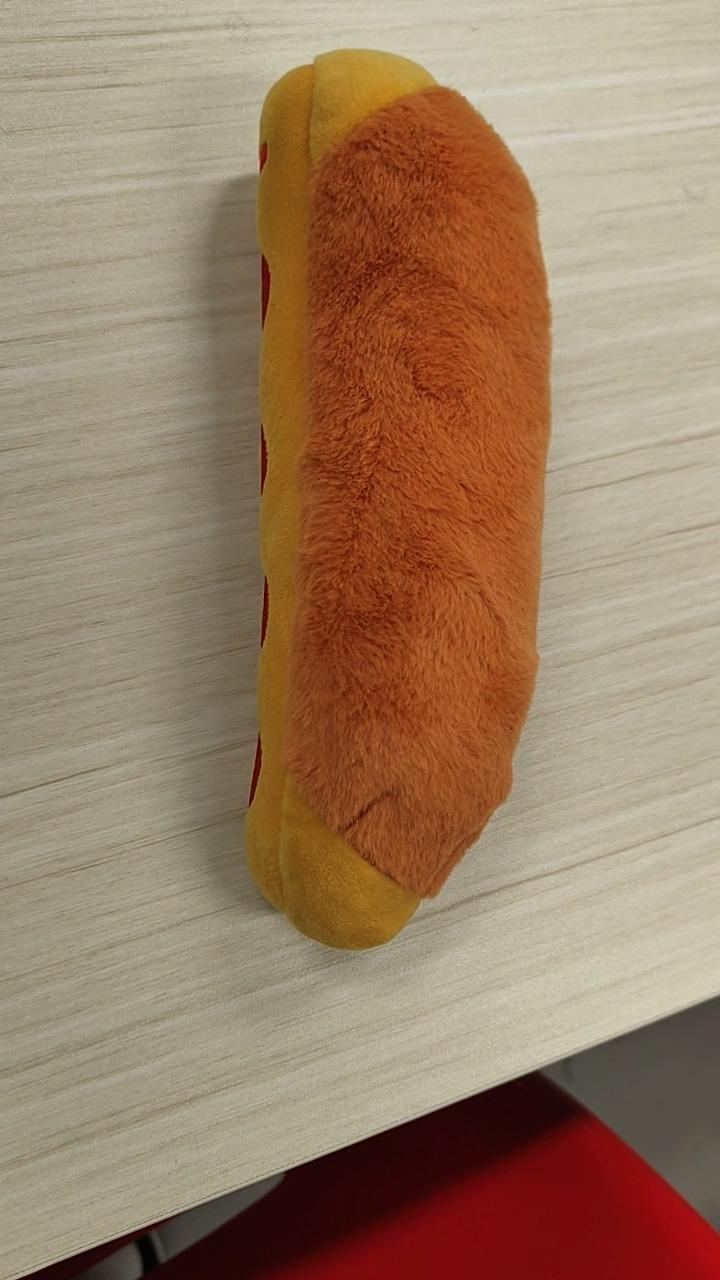hotdog: (243, 46, 553, 951)
